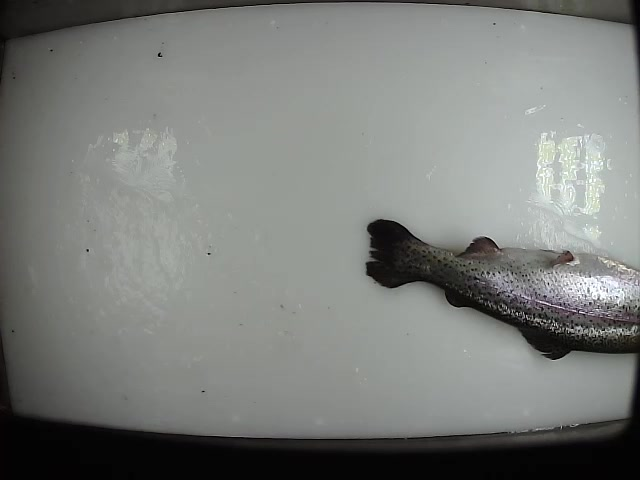fish: (363, 215, 640, 362)
